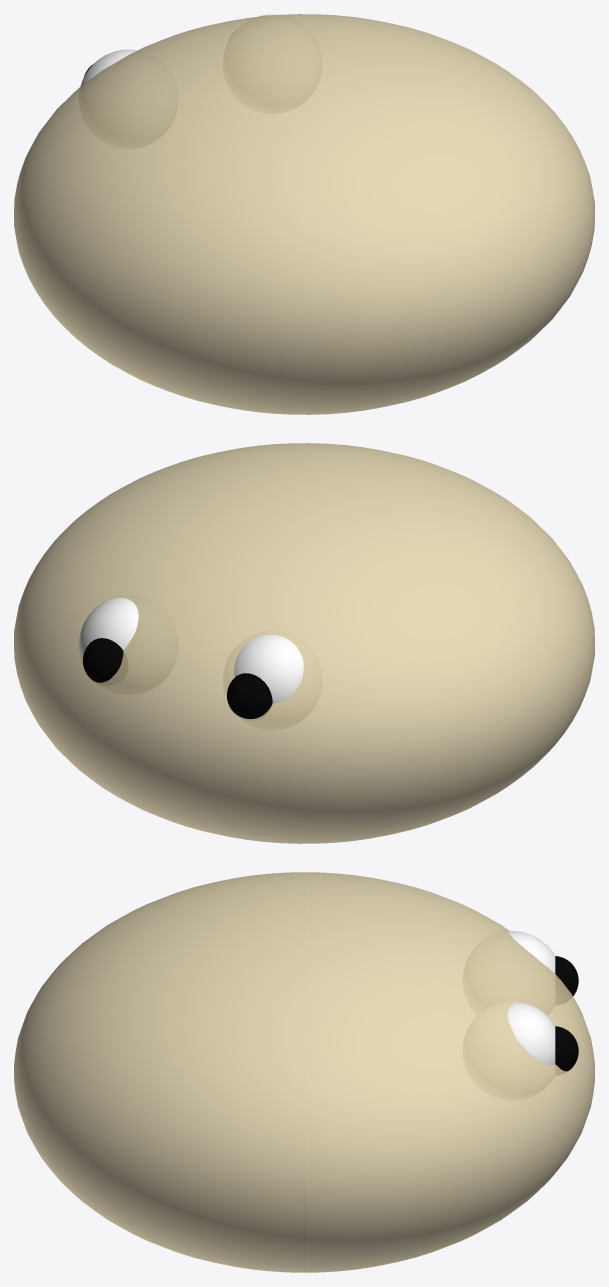
The model's file is sourdough_blob.glb.
3 renders of one model, top to bottom at view 1: azimuth 30°, elevation 25°; view 2: azimuth 150°, elevation 25°; view 3: azimuth 270°, elevation 25°, orthographic.
Visible parts, largest first — view 1: Body, LeftEye; view 2: Body, LeftEye, RightEye, LeftPupil, RightPupil; view 3: Body, RightEye, RightPupil, LeftEye, LeftPupil.
Boxes of the visible parts, bbox=[...] form: Body: bbox=[14, 14, 594, 414]; LeftEye: bbox=[80, 49, 137, 86]; Body: bbox=[14, 443, 594, 843]; LeftEye: bbox=[234, 635, 303, 704]; RightEye: bbox=[79, 597, 138, 655]; LeftPupil: bbox=[227, 673, 272, 718]; RightPupil: bbox=[83, 638, 123, 682]; Body: bbox=[14, 872, 594, 1272]; RightEye: bbox=[507, 1002, 555, 1065]; RightPupil: bbox=[555, 1026, 578, 1071]; LeftEye: bbox=[507, 931, 555, 973]; LeftPupil: bbox=[555, 956, 578, 996].
Size of the model in its own units: 1.4 by 0.84 by 1.4.
